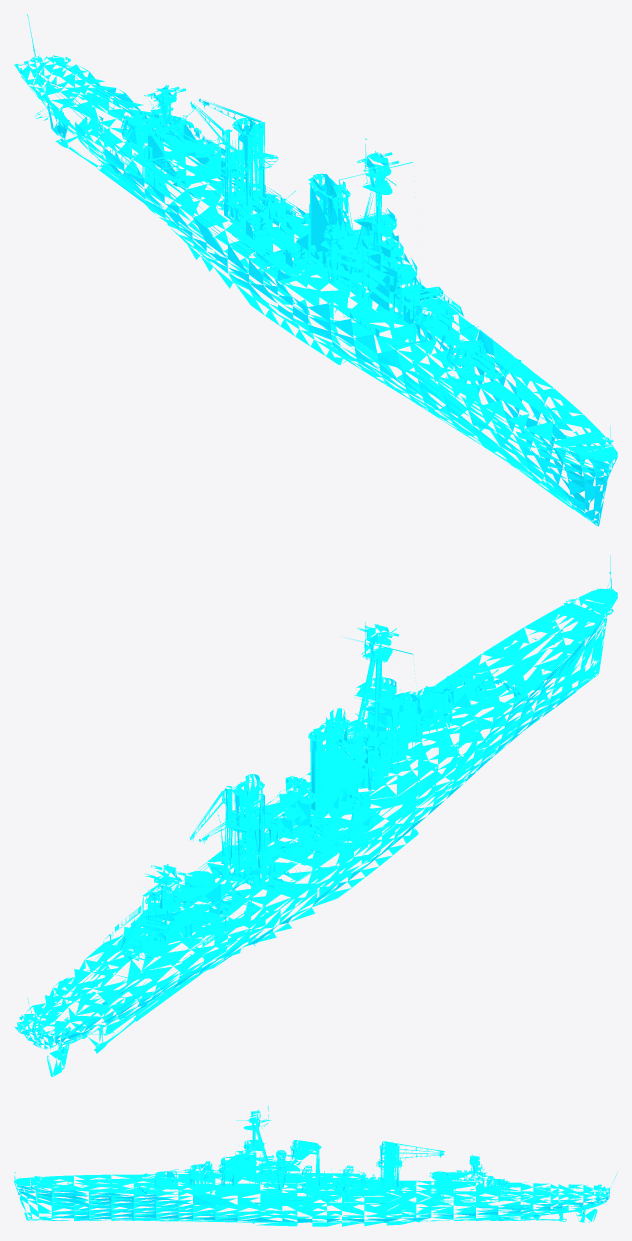
File: Mikoyan.glb
3 views of the same model, one above another, from view 1: azimuth 30°, elevation 25°; view 2: azimuth 150°, elevation 25°; view 3: azimuth 270°, elevation 25° (orthographic). The views are drawn at different scales.
Size of the model in its own units: 1.18 by 2.72 by 12.71.
